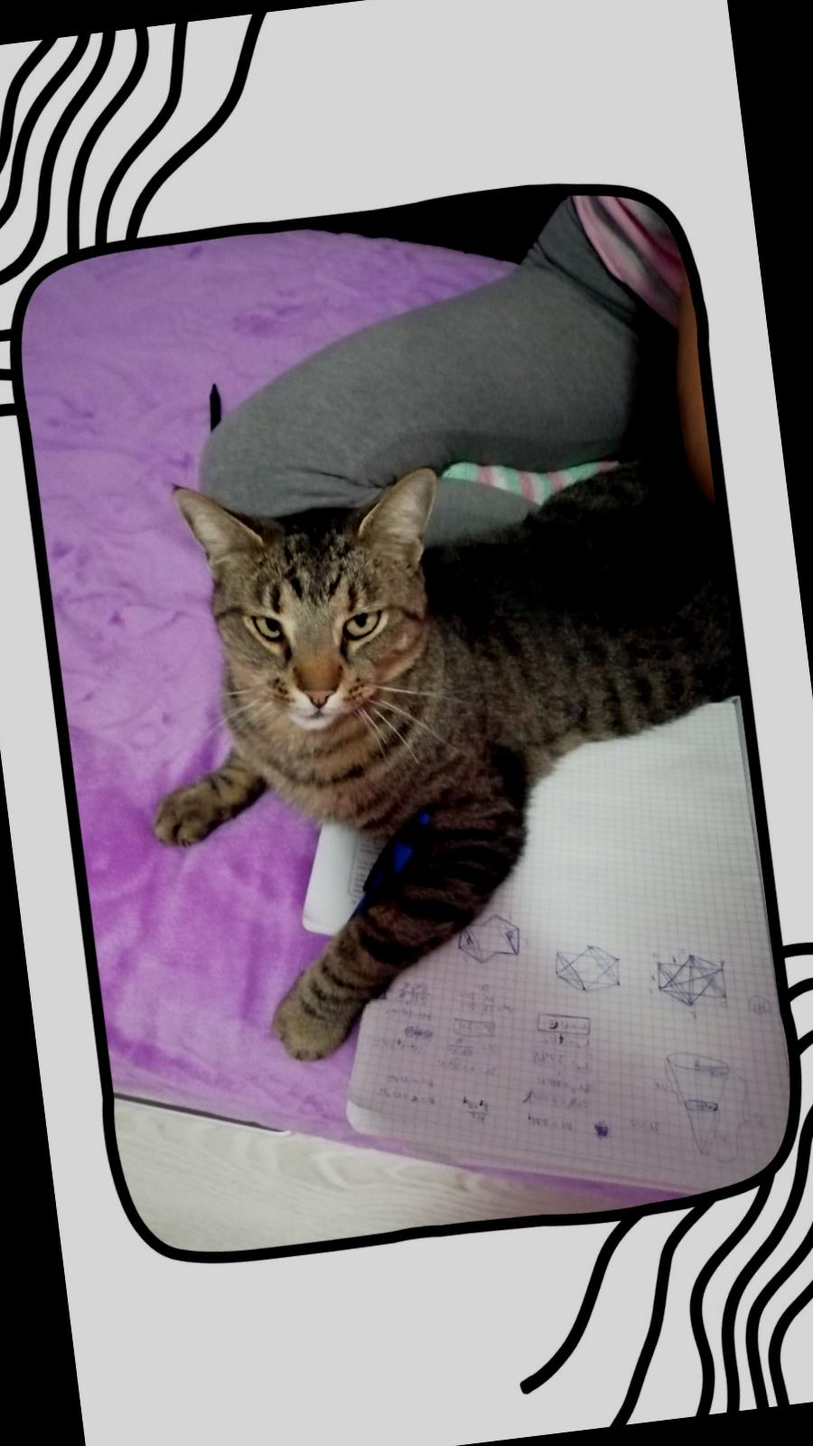macka: (114, 419, 787, 1076)
